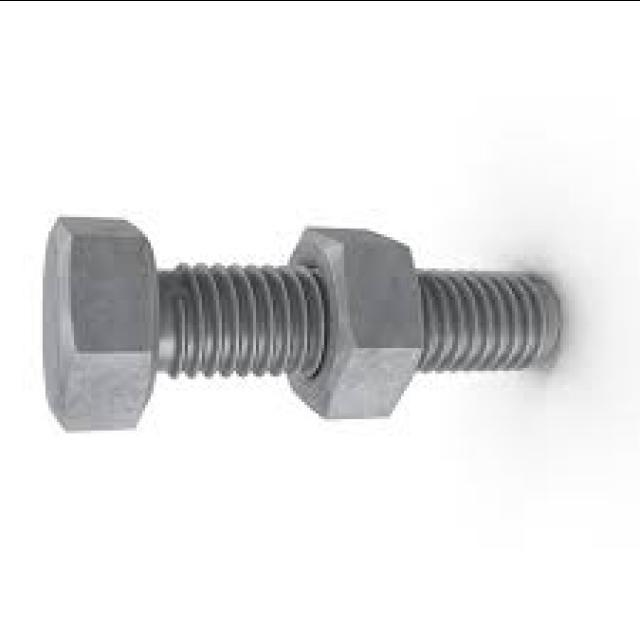bolt: (47, 215, 537, 431)
nut: (289, 226, 411, 415)
